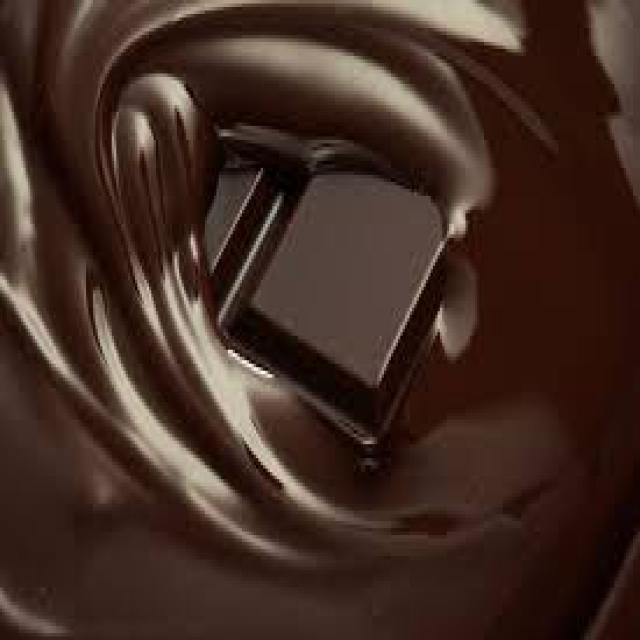Chocolate: (0, 0, 640, 640), (182, 135, 466, 466)
